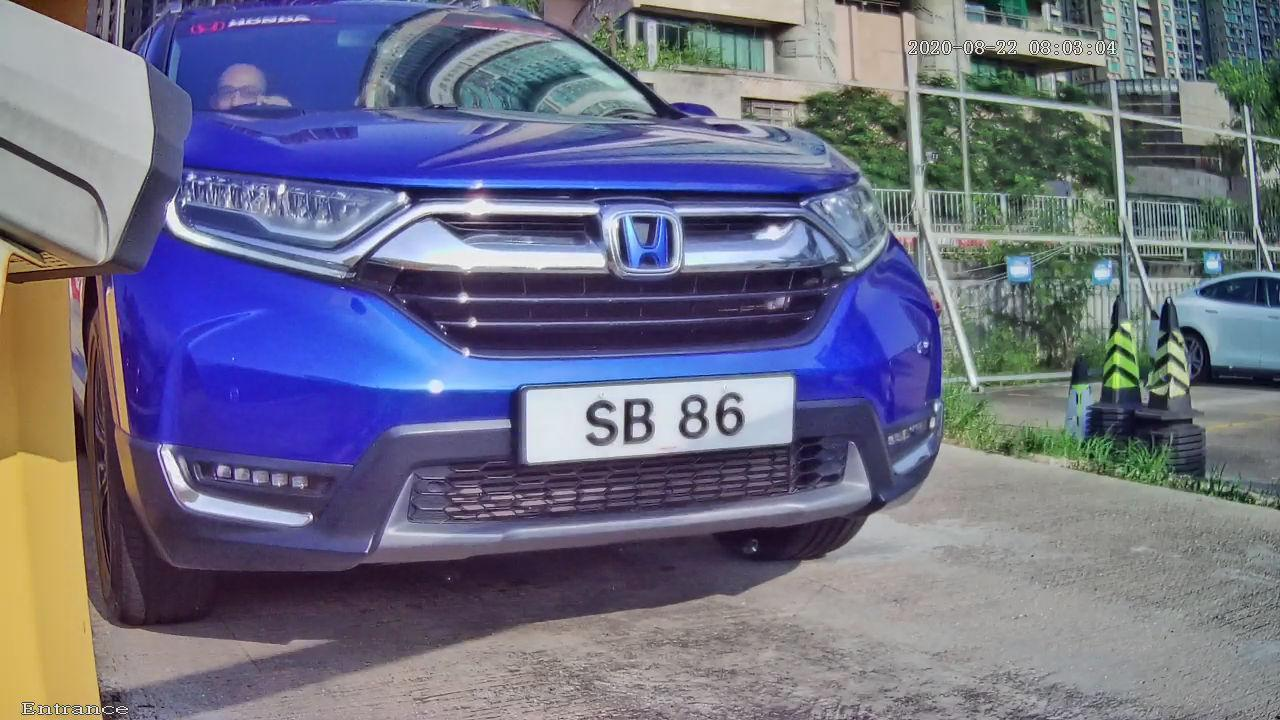Car: (12, 7, 1001, 653)
License Plate: (503, 367, 800, 473)
